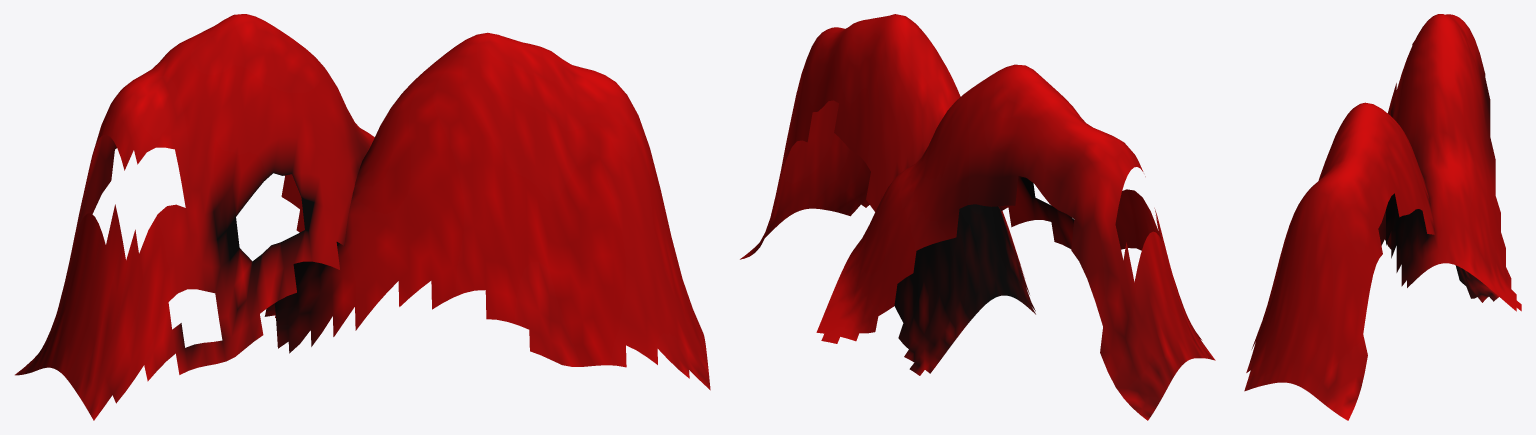
The model's file is SeparatorMountains_1.obj.
3 renders of one model, left to right at view 1: azimuth 30°, elevation 25°; view 2: azimuth 150°, elevation 25°; view 3: azimuth 270°, elevation 25°, orthographic. The views are drawn at different scales.
Parts seen in each view (by area): view 1: SepatarorMountains_1; view 2: SepatarorMountains_1; view 3: SepatarorMountains_1.
Part boxes in pixels (x1,y1,x2,y2): SepatarorMountains_1: [15, 14, 710, 420]; SepatarorMountains_1: [740, 14, 1215, 420]; SepatarorMountains_1: [1244, 14, 1521, 420].
Bounding box in the file's own units: 126 × 76.51 × 72.16.
